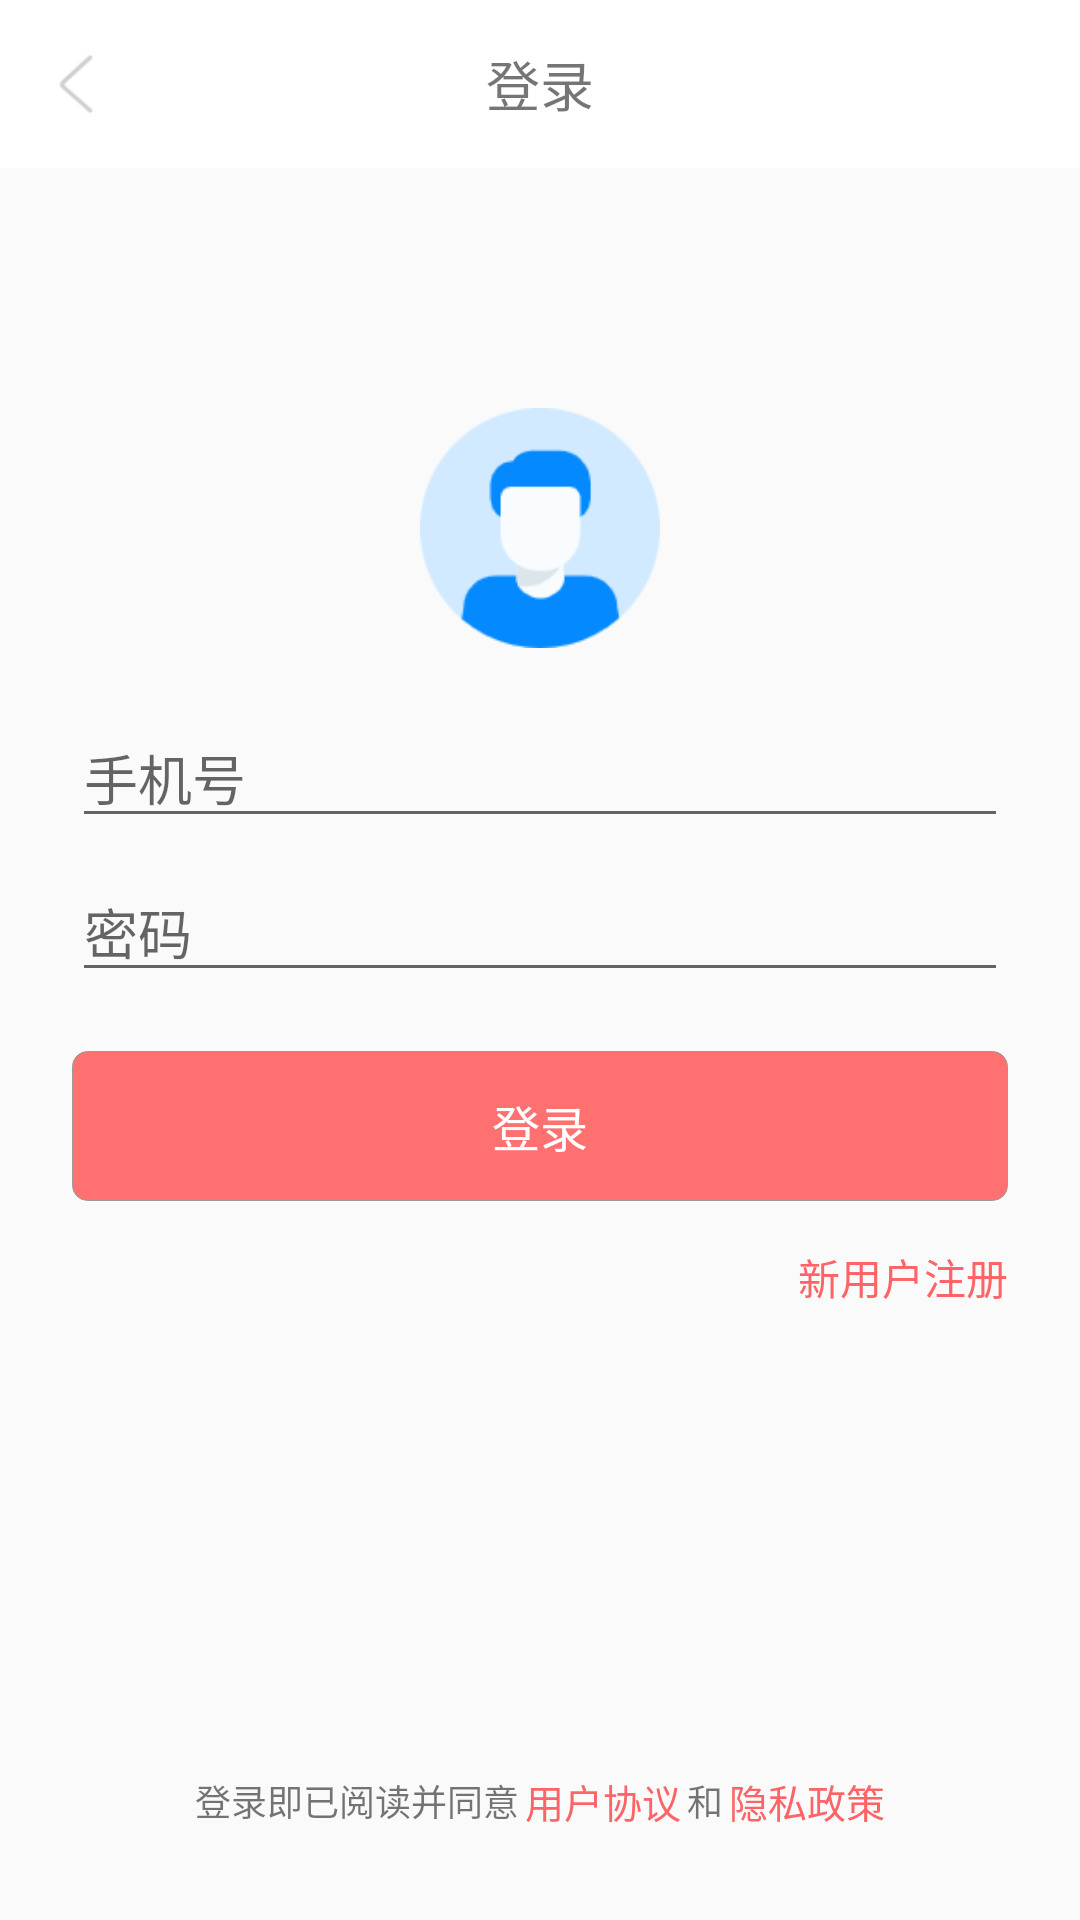

Screen size 1080*1920. Icon name, then its center in pixels as (x,y):
back: (76,84)
head portrait: (540,528)
